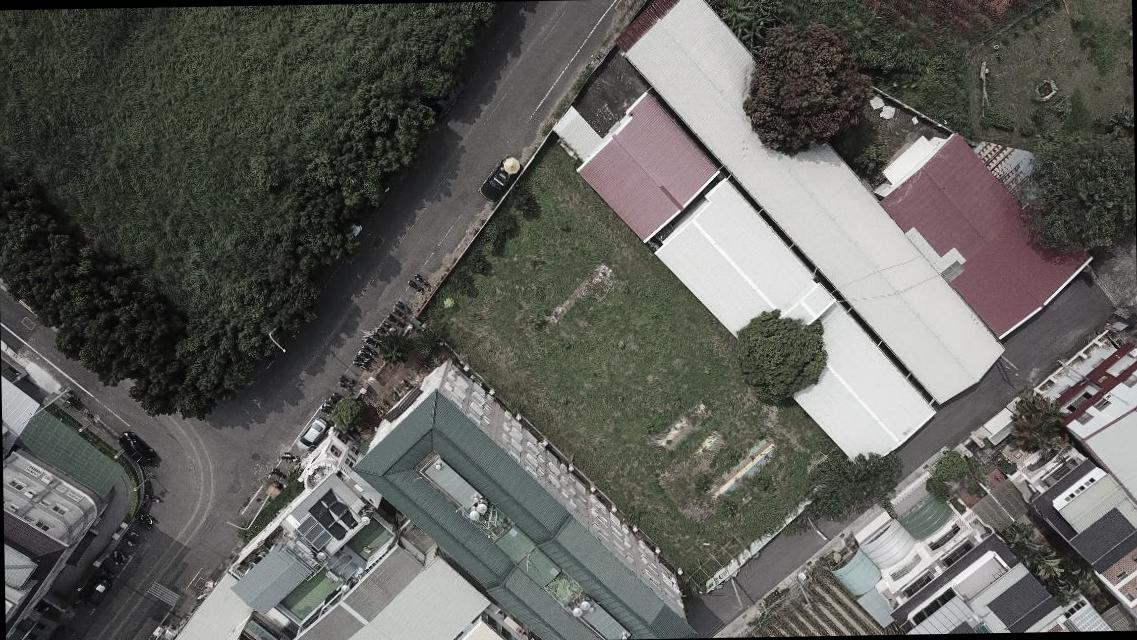vehicle: (479, 154, 518, 202), (294, 415, 326, 452)
